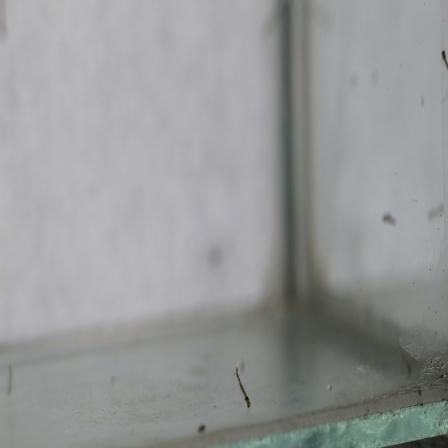Jentik-Nyamuk: (231, 363, 253, 413)
